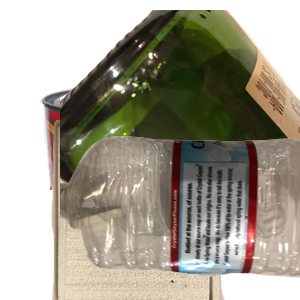glass: (60, 10, 300, 190)
metal: (37, 81, 277, 261)
plastic: (60, 134, 300, 300)
trash: (49, 120, 269, 300)
